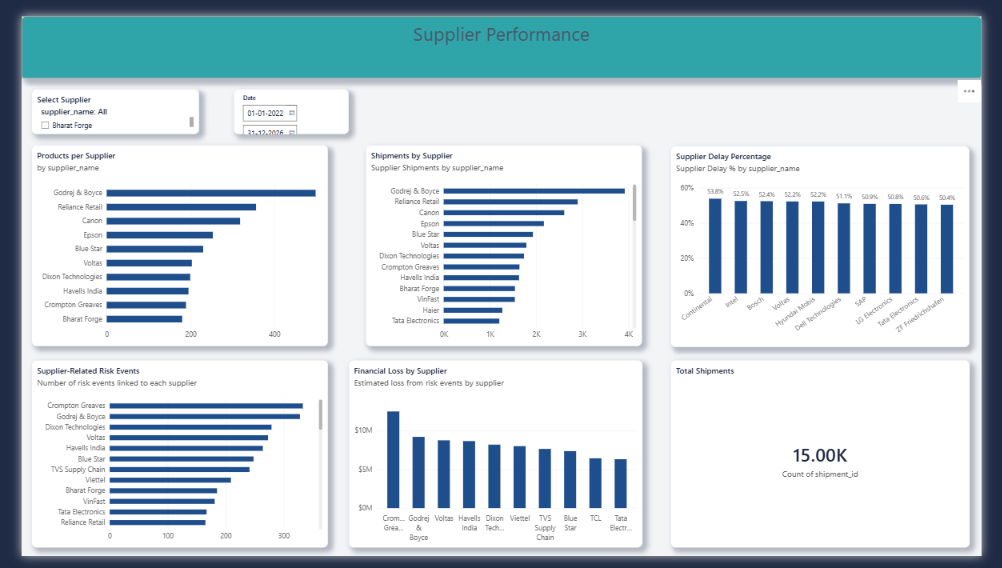

Layout of this report page (visuals, bound fields, positions):
{"tool":"powerbi","page":{"name":"Supplier Performance ","canvas":[1920,1080],"ordinal":3},"visuals":[{"type":"textbox","box":[0,0,1920,126.7],"z":0},{"type":"clusteredBarChart","fields":{"Category":["DimSupplier.supplier_name"],"Y":["DimProduct.Products per Supplier"]},"box":[20,257.5,592.5,402.5],"z":1000},{"type":"clusteredBarChart","title":"Shipments by Supplier","fields":{"Category":["DimSupplier.supplier_name"],"Y":["FactShipments.Supplier Shipments"]},"box":[687.5,257.5,552.5,402.5],"z":2000},{"type":"clusteredColumnChart","title":"Supplier Delay Percentage","fields":{"Category":["DimSupplier.supplier_name"],"Y":["FactShipments.Supplier Delay %"]},"box":[1297.5,260,597.5,402.5],"z":3000},{"type":"slicer","title":"Select Supplier","fields":{"Values":["DimSupplier.supplier_name"]},"box":[20,145,335,90],"z":4000},{"type":"clusteredColumnChart","title":"Financial Loss by Supplier","fields":{"Category":["DimSupplier.supplier_name"],"Y":["FactRiskEvents.Supplier Financial Loss"]},"box":[653.3,688.3,588.3,375],"z":5000},{"type":"slicer","fields":{"Values":["DimDate.Date"]},"box":[424,146,230,90],"z":6000},{"type":"clusteredBarChart","title":"Supplier-Related Risk Events","fields":{"Category":["DimSupplier.supplier_name"],"Y":["FactRiskEvents.Supplier Risk Events"]},"box":[20,688,593,375],"z":7000},{"type":"card","title":"Total Shipments","fields":{"Values":["CountNonNull(FactShipments.shipment_id)"]},"box":[1298,688,598,375],"z":7001}]}

Visuals, with their boxes in screenshot pixels (x1, y1, x2, y2), scaled from the page's 1920x1080 canvas onto the 1002x568 screenshot:
textbox: (0, 0, 1001, 67)
clusteredBarChart - DimSupplier.supplier_name x DimProduct.Products per Supplier: (10, 135, 320, 347)
"Shipments by Supplier" clusteredBarChart: (359, 135, 647, 347)
"Supplier Delay Percentage" clusteredColumnChart: (677, 137, 989, 348)
"Select Supplier" slicer: (10, 76, 185, 124)
"Financial Loss by Supplier" clusteredColumnChart: (341, 362, 648, 559)
slicer - DimDate.Date: (221, 77, 341, 124)
"Supplier-Related Risk Events" clusteredBarChart: (10, 362, 320, 559)
"Total Shipments" card: (677, 362, 989, 559)
